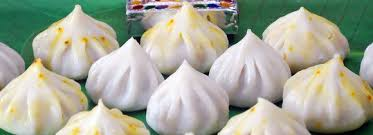modak: (3, 60, 99, 133), (21, 7, 132, 70), (215, 24, 292, 106), (142, 6, 237, 70), (151, 61, 232, 135), (89, 34, 165, 109), (260, 7, 358, 64)
